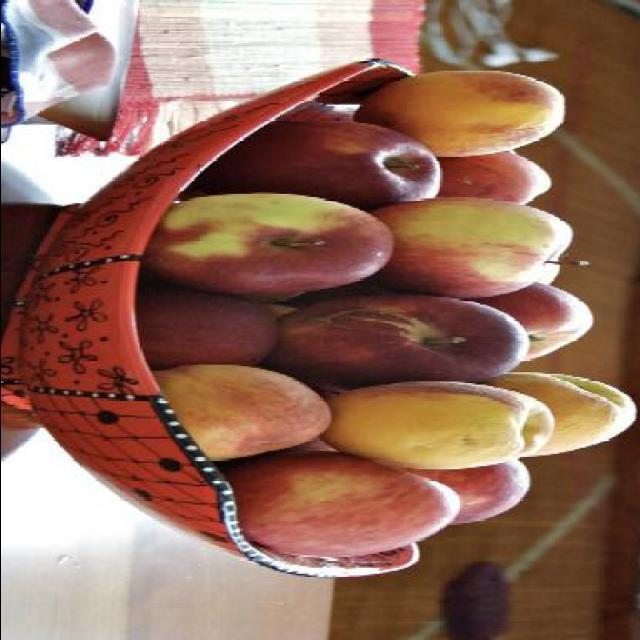Peach: (322, 381, 550, 468), (360, 68, 568, 158), (476, 370, 639, 456)
